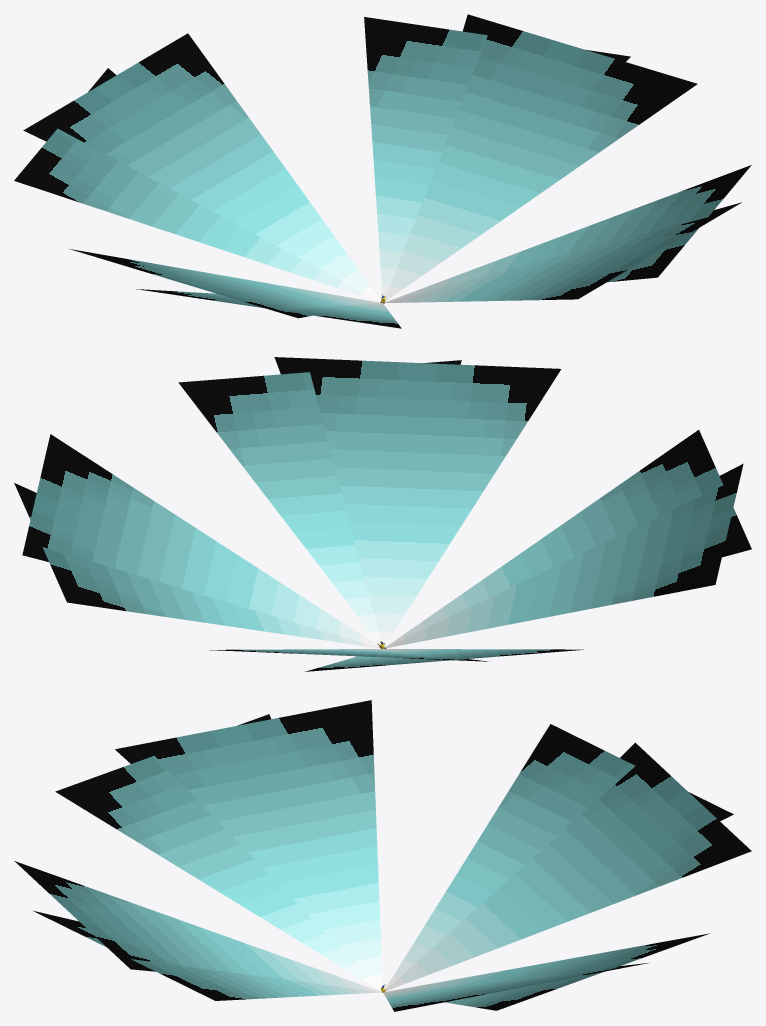
File: pika.obj
3 views of the same model, one above another, from view 1: azimuth 30°, elevation 25°; view 2: azimuth 150°, elevation 25°; view 3: azimuth 270°, elevation 25° (orthographic). The views are drawn at different scales.
Parts seen in each view (by area): view 1: pokeball_11BB7AD6_0_033, pokeball_11BB7AD6_0_035, pokeball_11BB7AD6_0_034; view 2: pokeball_11BB7AD6_0_033, pokeball_11BB7AD6_0_034, pokeball_11BB7AD6_0_035; view 3: pokeball_11BB7AD6_0_033, pokeball_11BB7AD6_0_034, pokeball_11BB7AD6_0_035.
Boxes of the visible parts, x1=… form: pokeball_11BB7AD6_0_033: x1=23, y1=14, x2=741, y2=318; pokeball_11BB7AD6_0_035: x1=14, y1=68, x2=751, y2=302; pokeball_11BB7AD6_0_034: x1=136, y1=17, x2=630, y2=328; pokeball_11BB7AD6_0_033: x1=22, y1=357, x2=743, y2=661; pokeball_11BB7AD6_0_034: x1=14, y1=430, x2=751, y2=648; pokeball_11BB7AD6_0_035: x1=178, y1=360, x2=583, y2=671; pokeball_11BB7AD6_0_033: x1=14, y1=700, x2=751, y2=1011; pokeball_11BB7AD6_0_034: x1=55, y1=714, x2=709, y2=1010; pokeball_11BB7AD6_0_035: x1=33, y1=724, x2=733, y2=1000.
Bounding box in the file's own units: 39.3 × 8.11 × 39.3.
